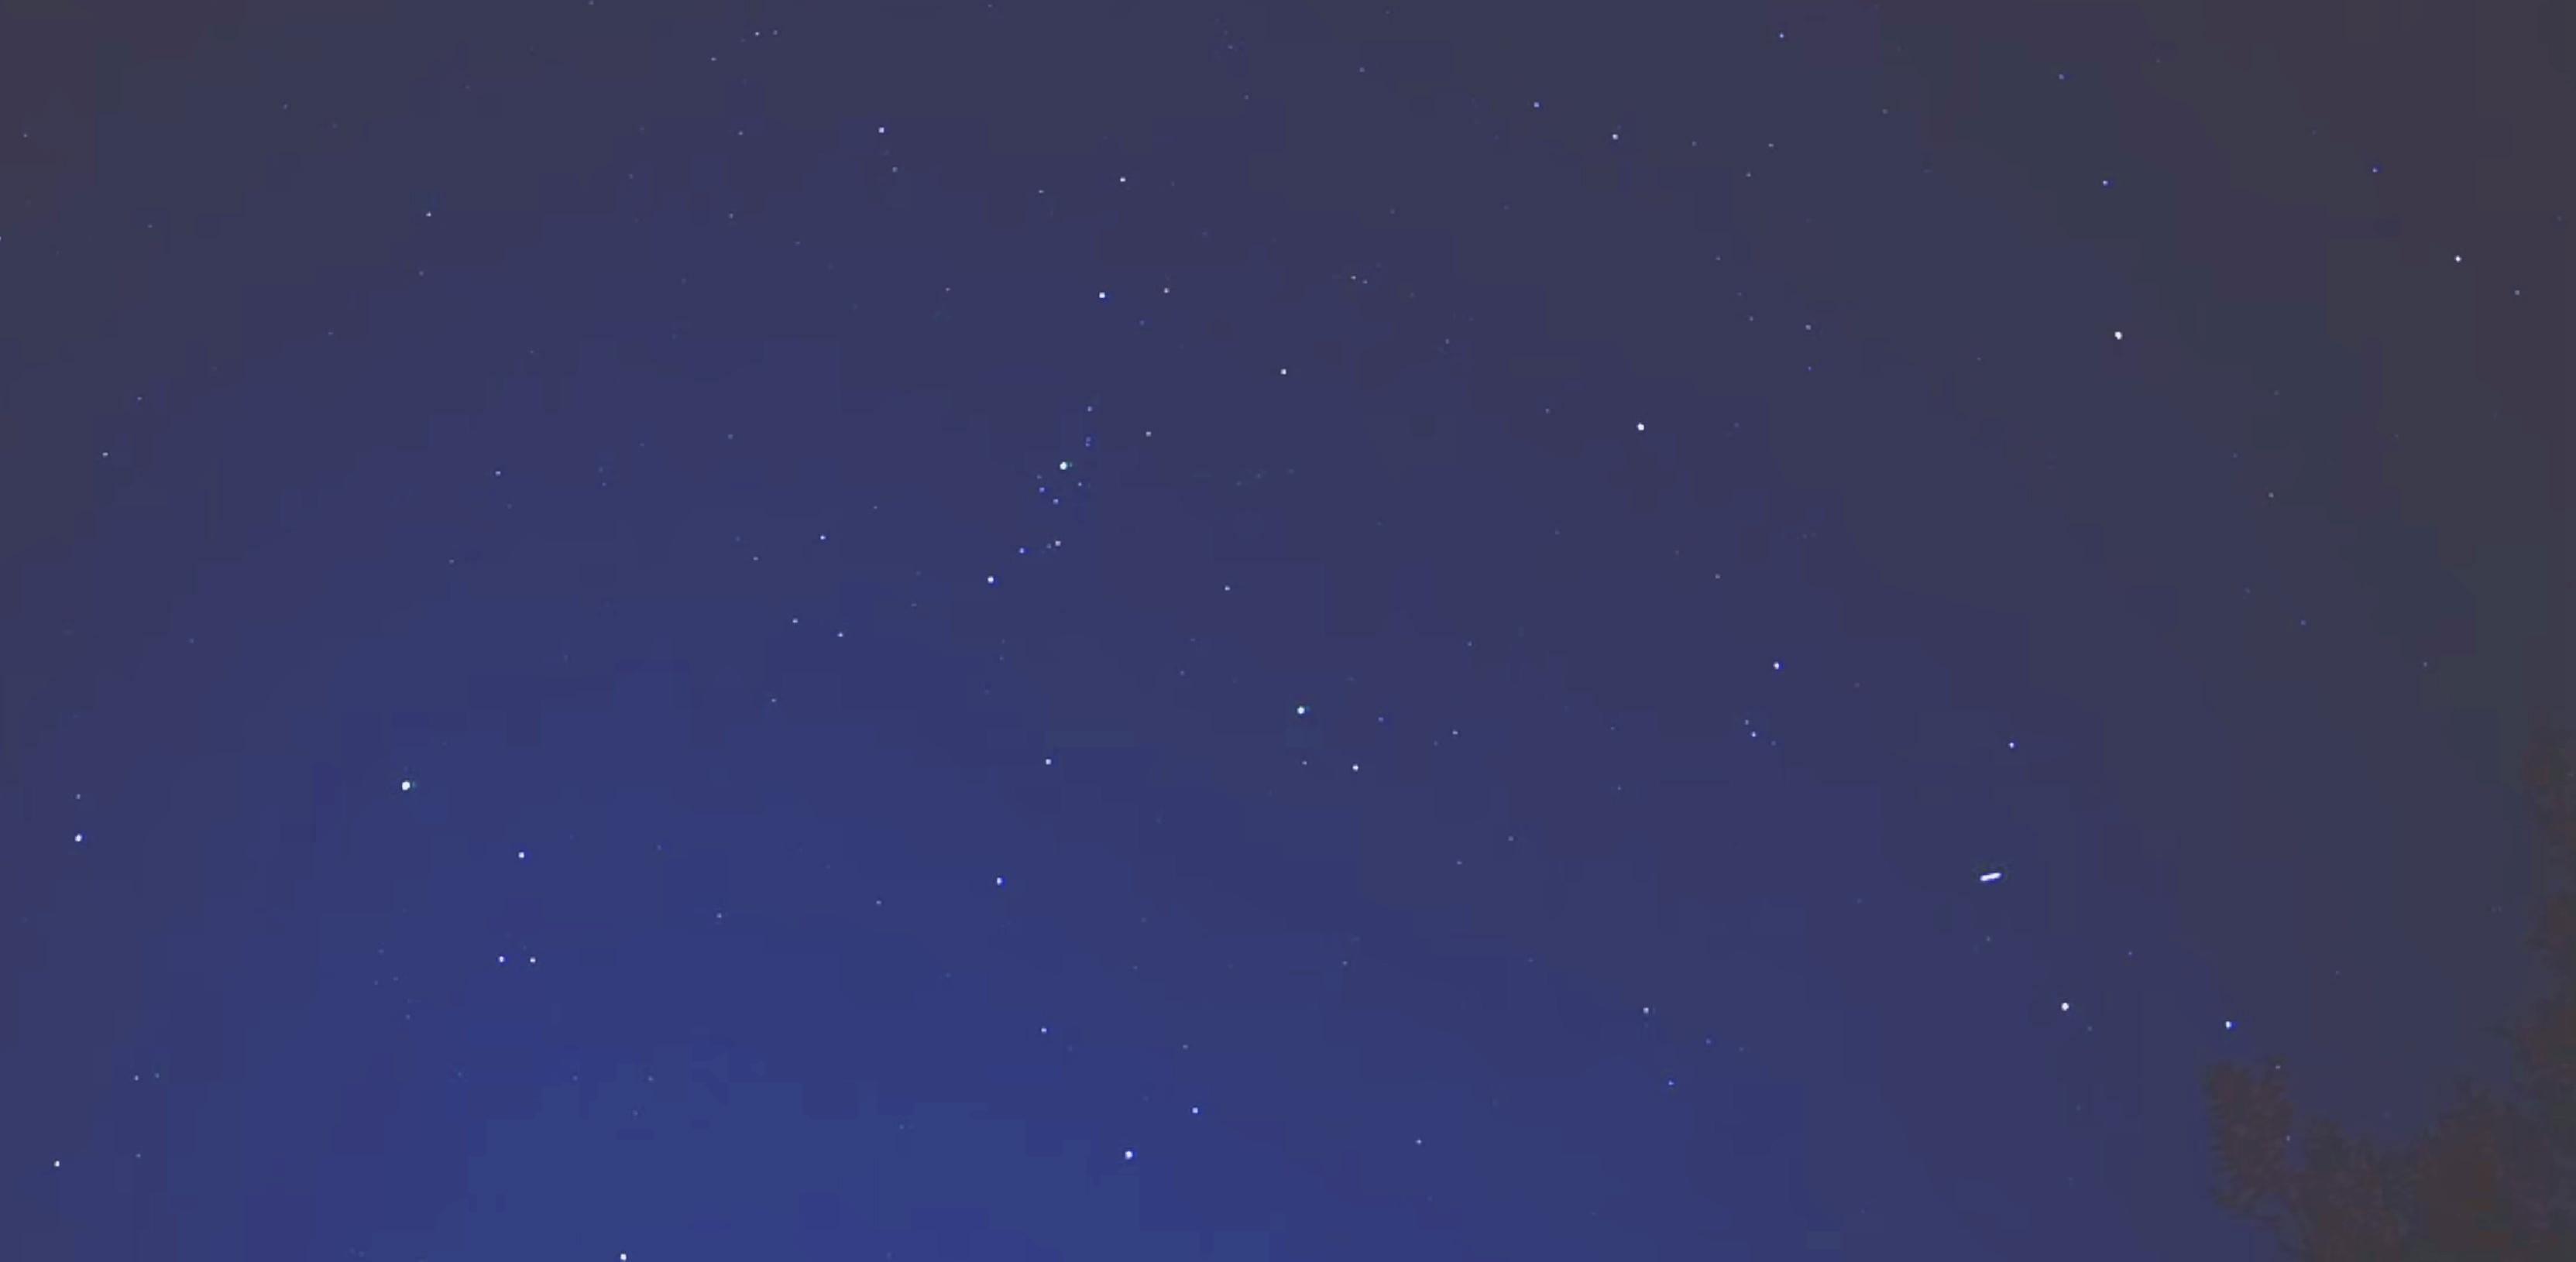meteorite: (1973, 861, 2014, 922)
